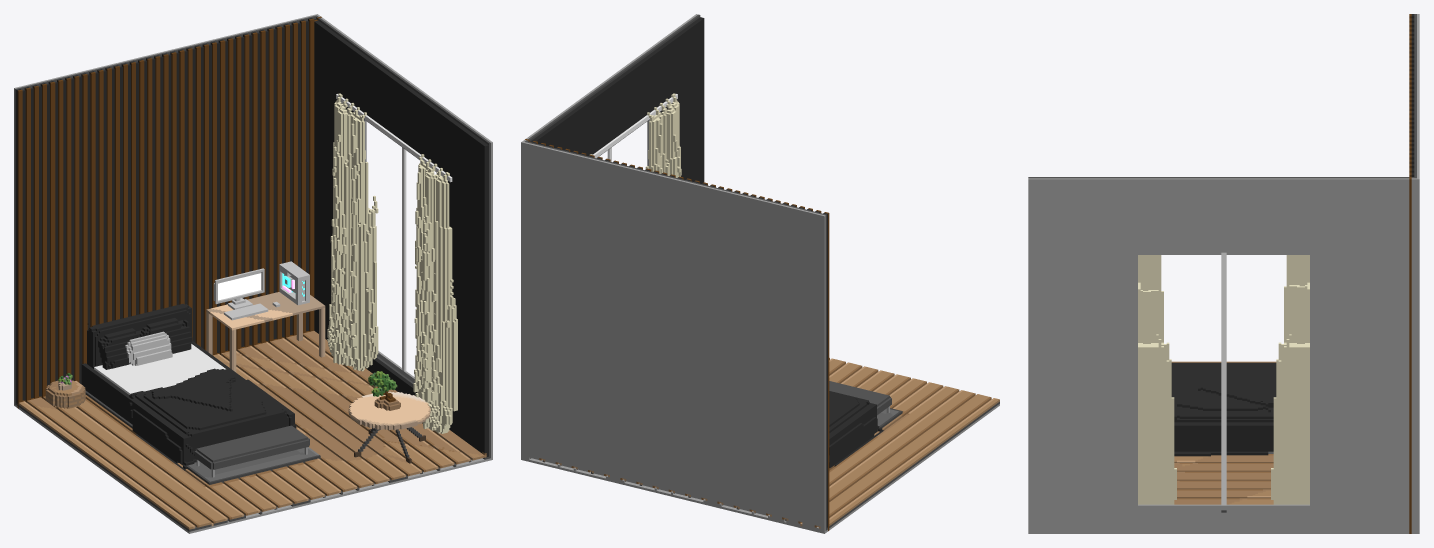
The model's file is bedroom.glb.
The picture shows the model from 3 angles, left to right: view 1: azimuth 30°, elevation 25°; view 2: azimuth 150°, elevation 25°; view 3: azimuth 270°, elevation 25°; orthographic projection. The views are drawn at different scales.
Parts seen in each view (by area): view 1: Object_2; view 2: Object_2; view 3: Object_2.
Part boxes in pixels (box(x1,y1,x2,y2)): Object_2: box(14, 14, 492, 533); Object_2: box(521, 14, 999, 533); Object_2: box(1028, 14, 1419, 533).
Size of the model in its own units: 15 by 15 by 15.
Materials: 1 (1 with a texture image).
